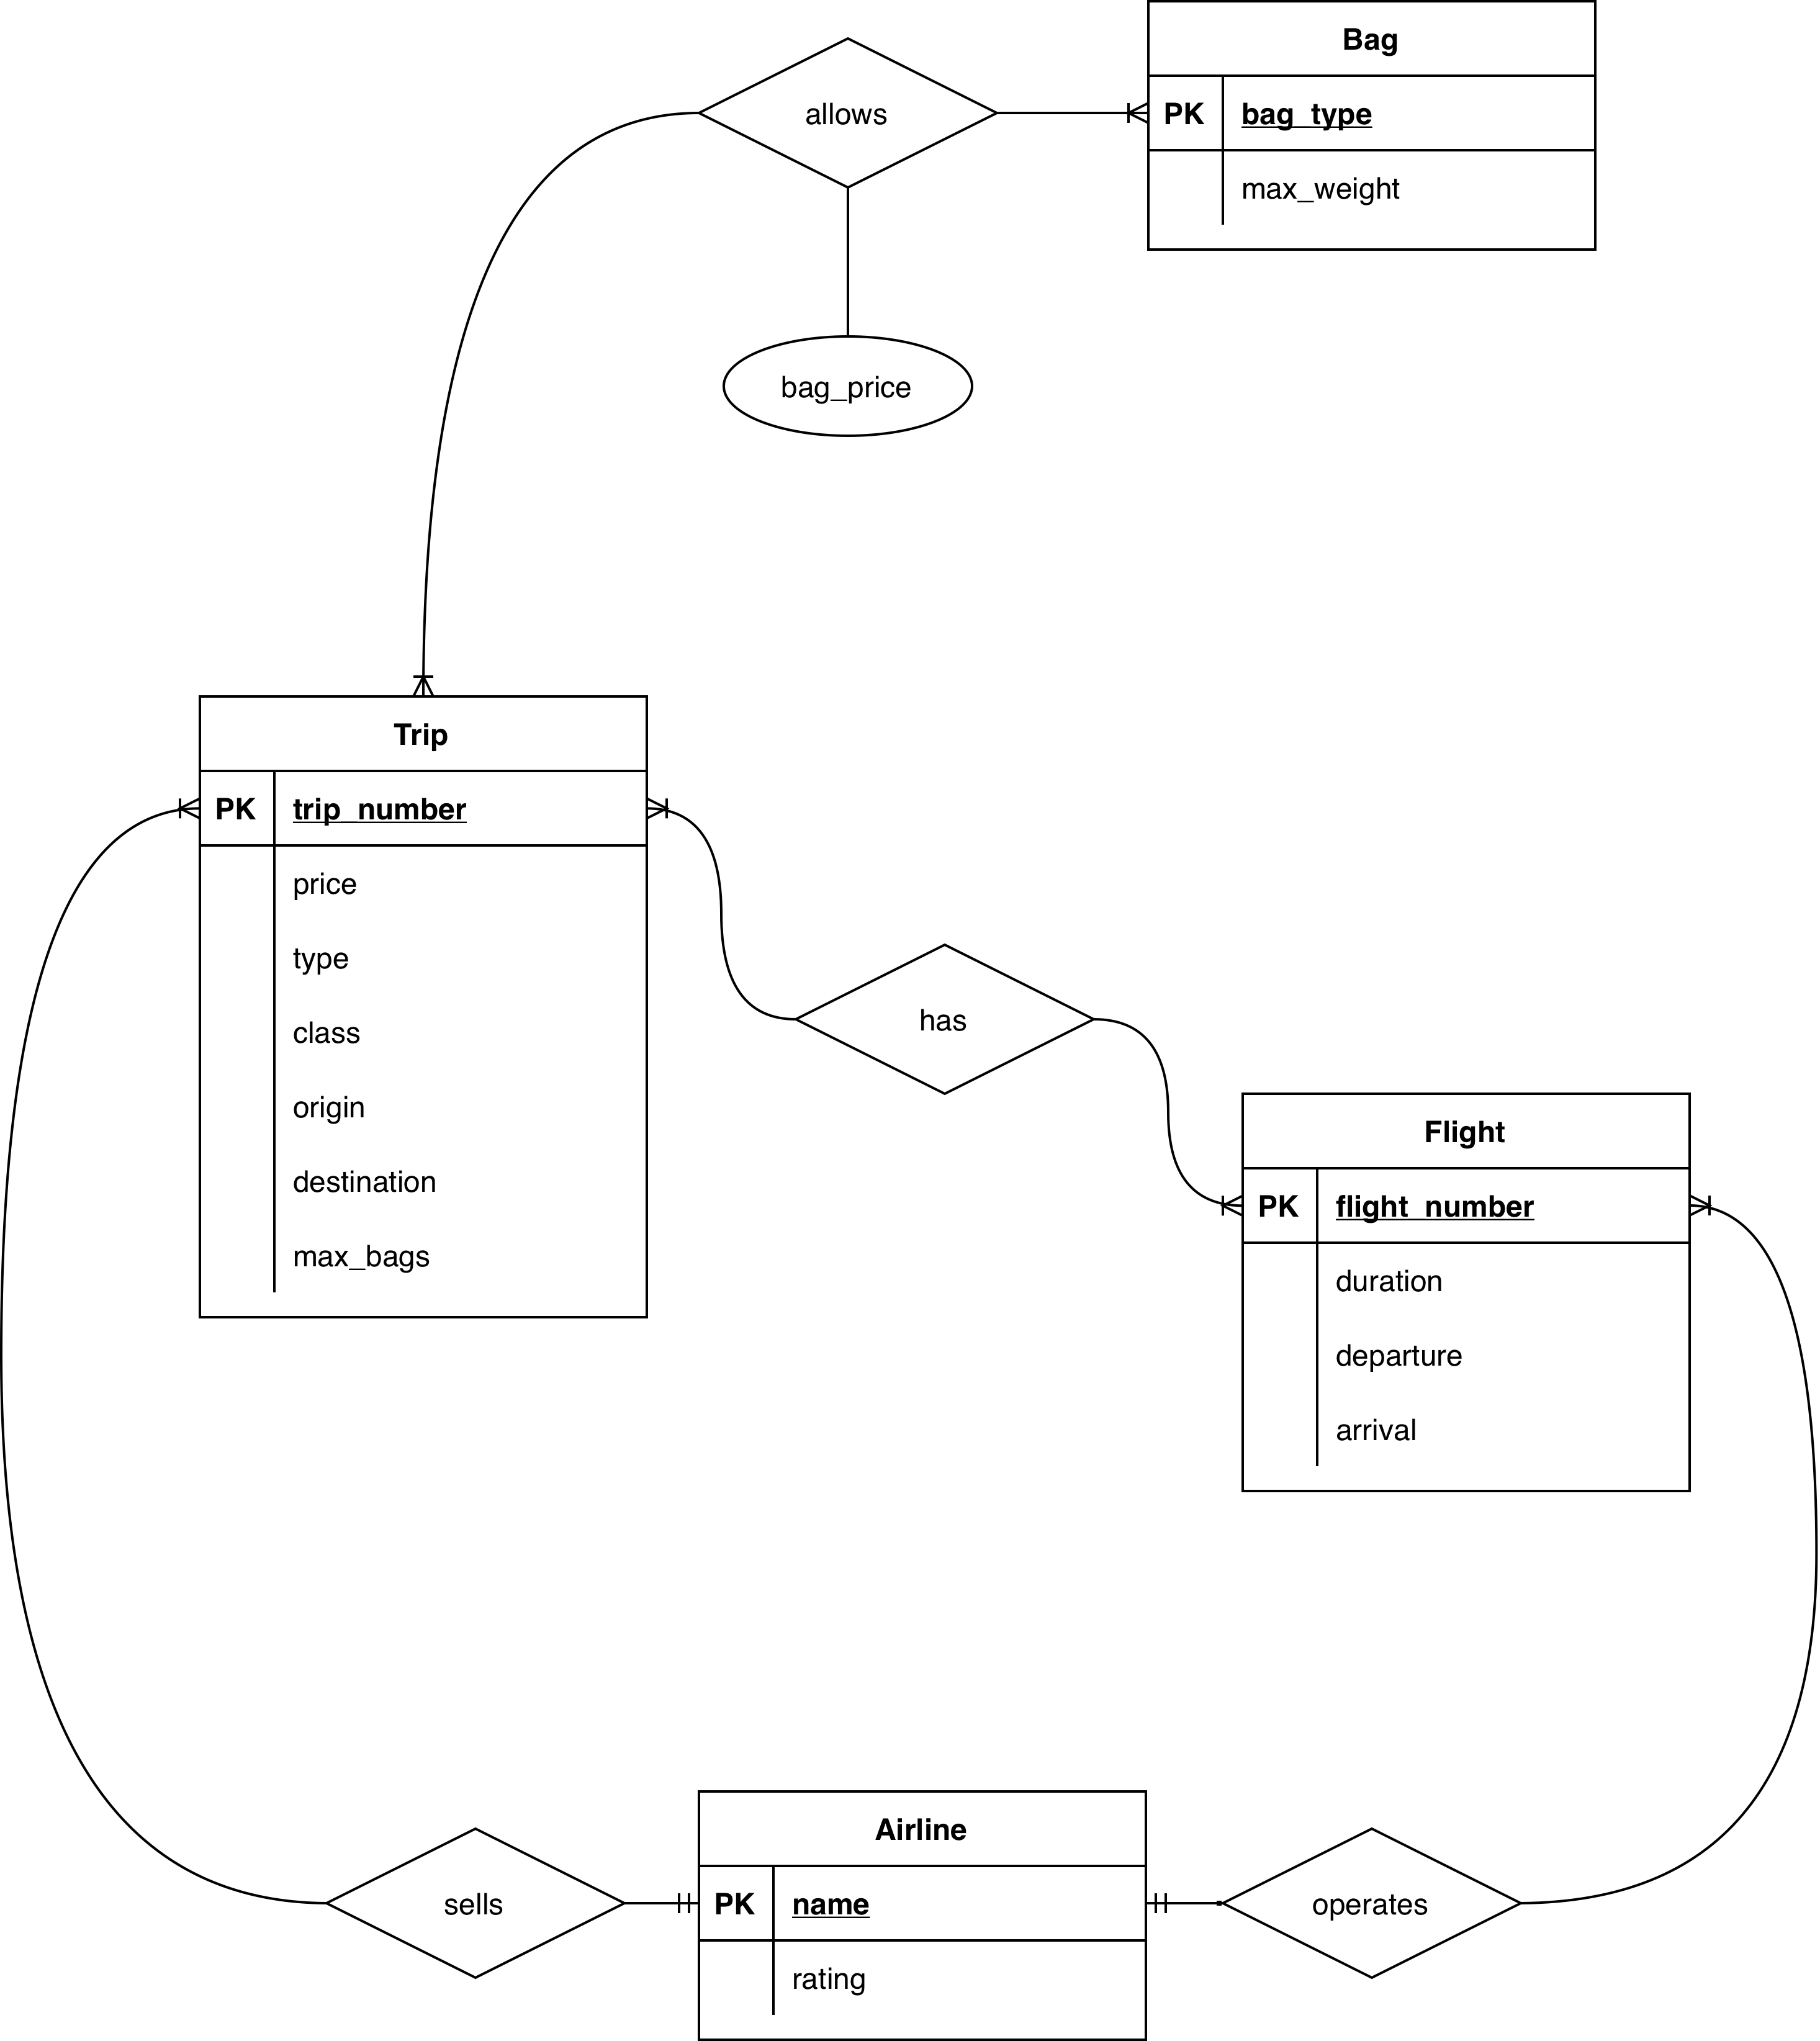entity: (202, 697, 645, 1312), (1242, 1094, 1688, 1484), (1145, 2, 1597, 248), (699, 1793, 1145, 2041)
many: (639, 775, 706, 841), (1189, 1168, 1247, 1226), (392, 646, 457, 696), (148, 782, 206, 829), (1105, 88, 1151, 148), (1695, 1187, 1732, 1233)
one: (641, 1876, 697, 1939), (1149, 1871, 1193, 1932)
rel: (330, 1823, 624, 1981), (703, 39, 998, 190), (796, 945, 1100, 1091), (1216, 1834, 1520, 1980)
rel_attr: (719, 337, 973, 443)
